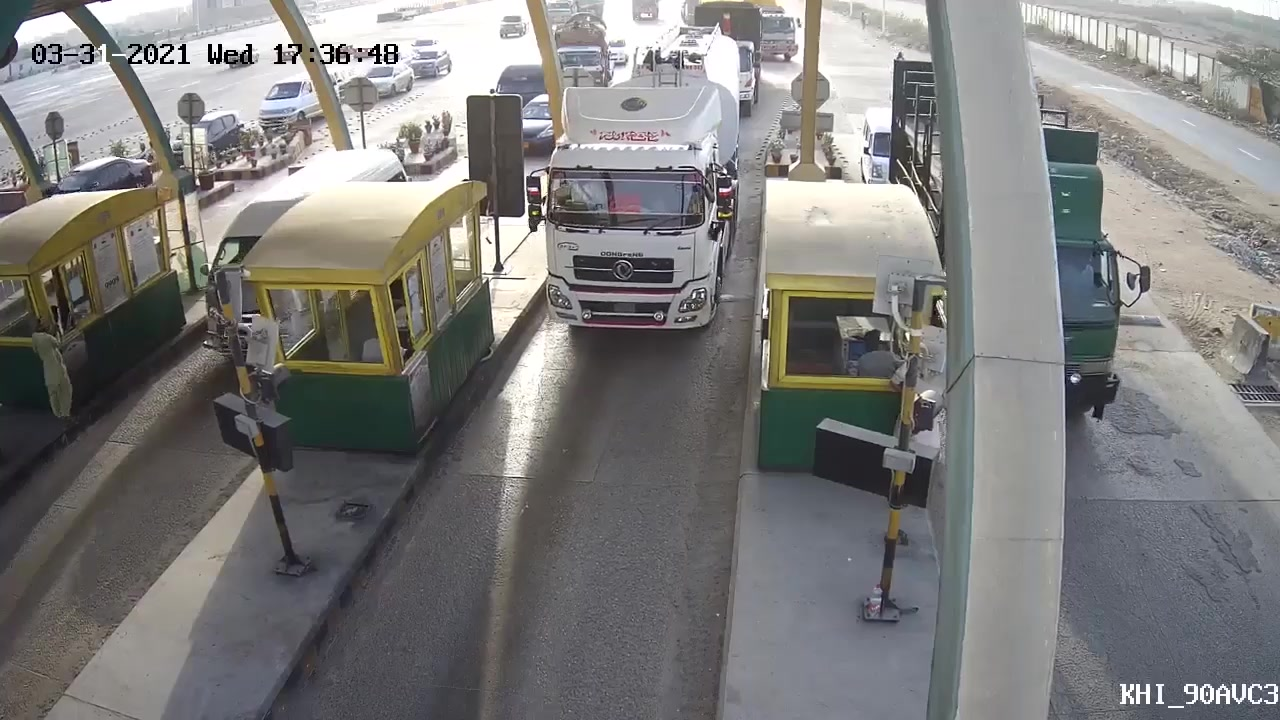F6: (518, 21, 753, 353)
